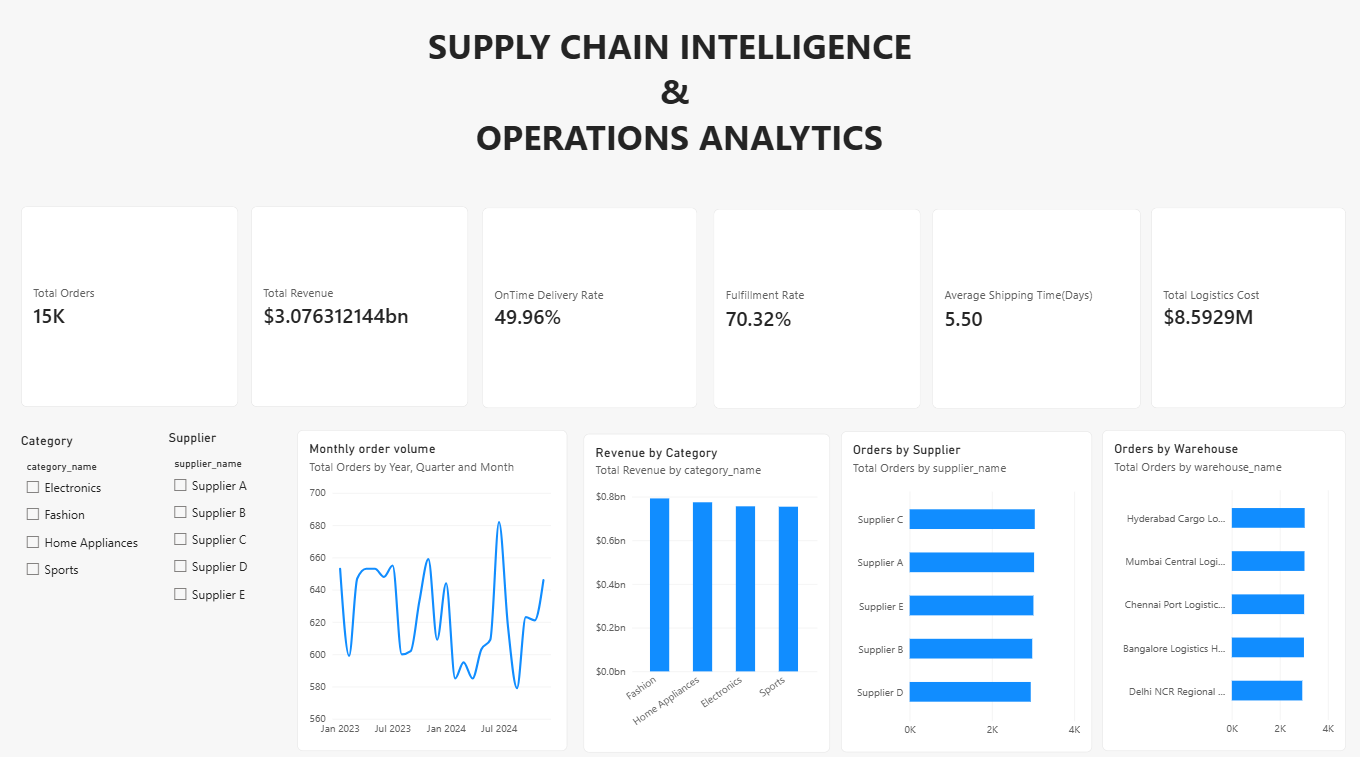

This screenshot's page, from the dashboard's own definition file:
{"tool":"powerbi","page":{"name":"Executive Overview","canvas":[1920,1080],"ordinal":0},"visuals":[{"type":"cardVisual","fields":{"Data":["supply_chain_master_clean.Total Orders"]},"box":[34.9,294.8,303.5,280.8],"z":0},{"type":"cardVisual","fields":{"Data":["supply_chain_master_clean.Total Revenue"]},"box":[355.8,294.8,303.5,280.8],"z":1000},{"type":"cardVisual","fields":{"Data":["supply_chain_master_clean.OnTime Delivery Rate"]},"box":[678.5,296.5,300,280.8],"z":2000},{"type":"cardVisual","fields":{"Data":["supply_chain_master_clean.Fulfillment Rate"]},"box":[1001.2,298.3,289.5,279.1],"z":3000},{"type":"cardVisual","fields":{"Data":["supply_chain_master_clean.Average Shipping Time(Days)"]},"box":[1306.4,298.3,291.3,279.1],"z":4000},{"type":"clusteredColumnChart","title":"Revenue by Category","fields":{"Category":["supply_chain_master_clean.category_name"],"Y":["supply_chain_master_clean.Total Revenue"]},"box":[819.8,612.2,343.6,444.8],"z":6000},{"type":"clusteredBarChart","title":"Orders by Supplier","fields":{"Category":["supply_chain_master_clean.supplier_name"],"Y":["supply_chain_master_clean.Total Orders"]},"box":[1179.1,608.7,350.6,448.3],"z":7000},{"type":"clusteredBarChart","title":"Orders by Warehouse","fields":{"Category":["supply_chain_master_clean.warehouse_name"],"Y":["supply_chain_master_clean.Total Orders"]},"box":[1543.6,607,340.1,448.3],"z":8000},{"type":"cardVisual","fields":{"Data":["supply_chain_master_clean.Total Logistics Cost"]},"box":[1611.6,296.5,272.1,280.8],"z":9000},{"type":"textbox","box":[10.5,36.6,1873.3,221.5],"z":10000},{"type":"slicer","title":"Category","fields":{"Values":["supply_chain_master_clean.category_name"]},"box":[34.9,610.5,183.1,352.3],"z":11000},{"type":"slicer","title":"Supplier","fields":{"Values":["supply_chain_master_clean.supplier_name"]},"box":[240.7,607,193.6,289.5],"z":12000},{"type":"lineChart","title":"Monthly order volume","fields":{"Category":["supply_chain_master_clean.order_date.Variation.Date Hierarchy.Year","supply_chain_master_clean.order_date.Variation.Date Hierarchy.Quarter","supply_chain_master_clean.order_date.Variation.Date Hierarchy.Month","supply_chain_master_clean.order_date.Variation.Date Hierarchy.Day"],"Y":["supply_chain_master_clean.Total Orders"]},"box":[420.4,607,376.7,448.3],"z":13000}]}

Visuals, with their boxes in screenshot pixels (x1, y1, x2, y2), scaled from the page's 1920x1080 canvas onto the 1360x757 screenshot:
cardVisual - supply_chain_master_clean.Total Orders: x1=25, y1=207, x2=240, y2=403
cardVisual - supply_chain_master_clean.Total Revenue: x1=252, y1=207, x2=467, y2=403
cardVisual - supply_chain_master_clean.OnTime Delivery Rate: x1=481, y1=208, x2=693, y2=405
cardVisual - supply_chain_master_clean.Fulfillment Rate: x1=709, y1=209, x2=914, y2=405
cardVisual - supply_chain_master_clean.Average Shipping Time(Days): x1=925, y1=209, x2=1132, y2=405
"Revenue by Category" clusteredColumnChart: x1=581, y1=429, x2=824, y2=741
"Orders by Supplier" clusteredBarChart: x1=835, y1=427, x2=1084, y2=741
"Orders by Warehouse" clusteredBarChart: x1=1093, y1=425, x2=1334, y2=740
cardVisual - supply_chain_master_clean.Total Logistics Cost: x1=1142, y1=208, x2=1334, y2=405
textbox: x1=7, y1=26, x2=1334, y2=181
"Category" slicer: x1=25, y1=428, x2=154, y2=675
"Supplier" slicer: x1=170, y1=425, x2=308, y2=628
"Monthly order volume" lineChart: x1=298, y1=425, x2=565, y2=740
